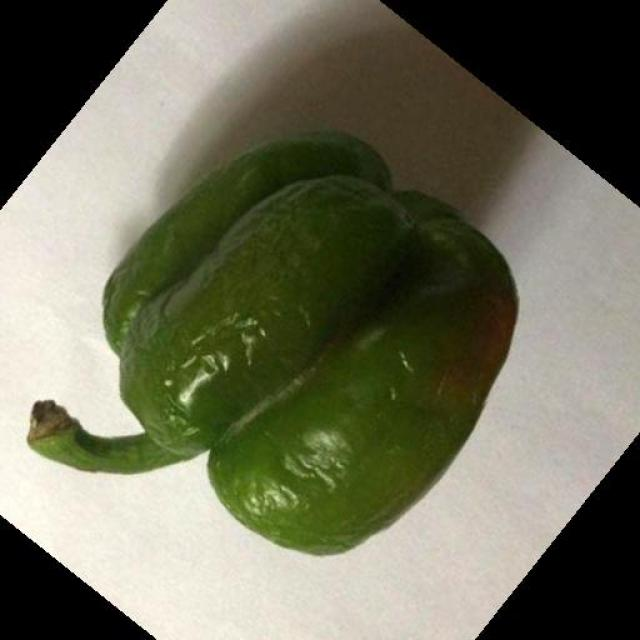Stale_Capsicum: (117, 164, 494, 538)
